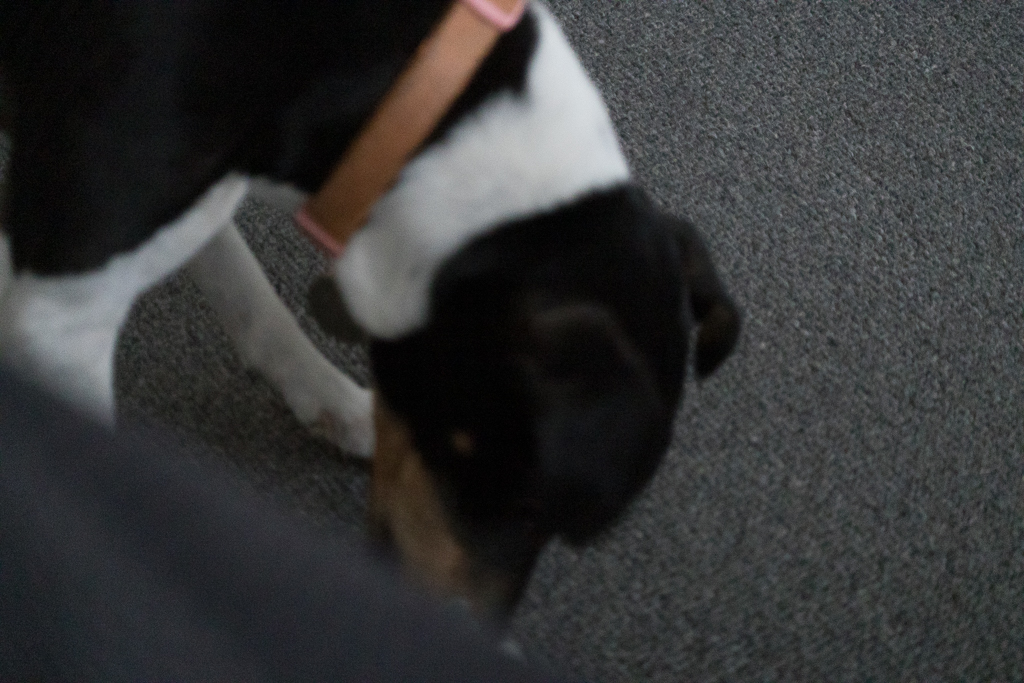Dog: (0, 0, 755, 683)
